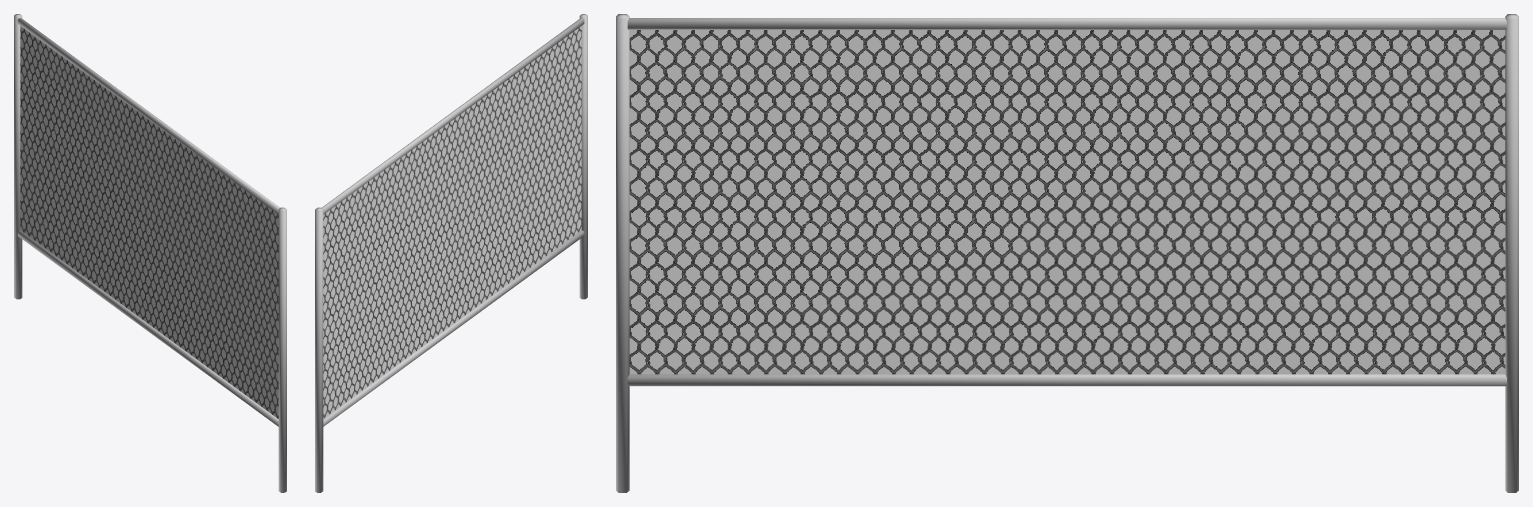
File: RoadProp_WiremeshFence_01b.fbx
3 renders of one model, left to right at view 1: azimuth 30°, elevation 25°; view 2: azimuth 150°, elevation 25°; view 3: azimuth 270°, elevation 25°, orthographic. The views are drawn at different scales.
Parts seen in each view (by area): view 1: RoadProp_WiremeshFence_01b; view 2: RoadProp_WiremeshFence_01b; view 3: RoadProp_WiremeshFence_01b.
Part boxes in pixels (left/top/right/bottom): RoadProp_WiremeshFence_01b: left=14, top=14, right=286, bottom=492; RoadProp_WiremeshFence_01b: left=315, top=14, right=587, bottom=492; RoadProp_WiremeshFence_01b: left=616, top=14, right=1518, bottom=492.
Bounding box in the file's own units: 0.0413 × 1.95 × 3.35.
